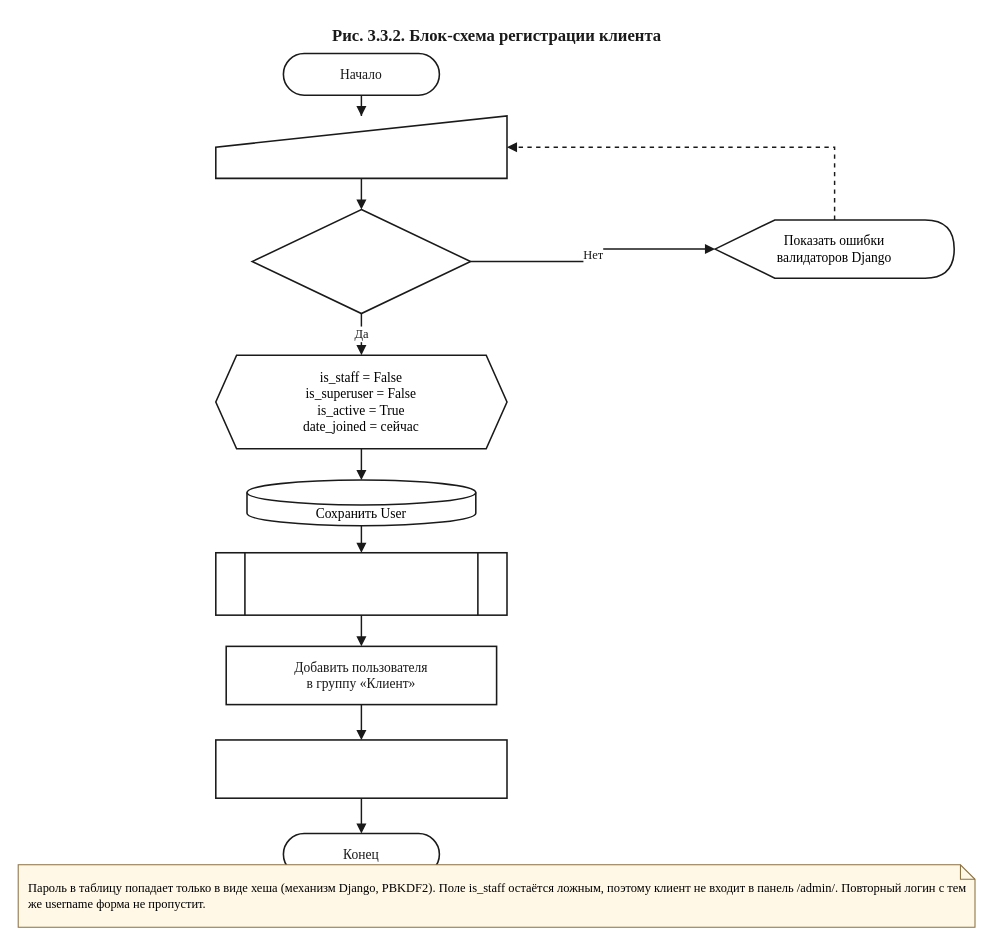
Some shapes in this 993 by 945 pixel diagram are drawn without their labels. Each missing label, with the centre of its shape:
"ensure_groups: группы «Клиент» и «Менеджер»" goes at (x=361, y=583).
"Логин, e-mail, пароль, подтверждение пароля" goes at (x=361, y=147).
"Перейти на главную. Сессия входа не создаётся" goes at (x=361, y=769).
"Форма прошла проверку?" goes at (x=361, y=261).
